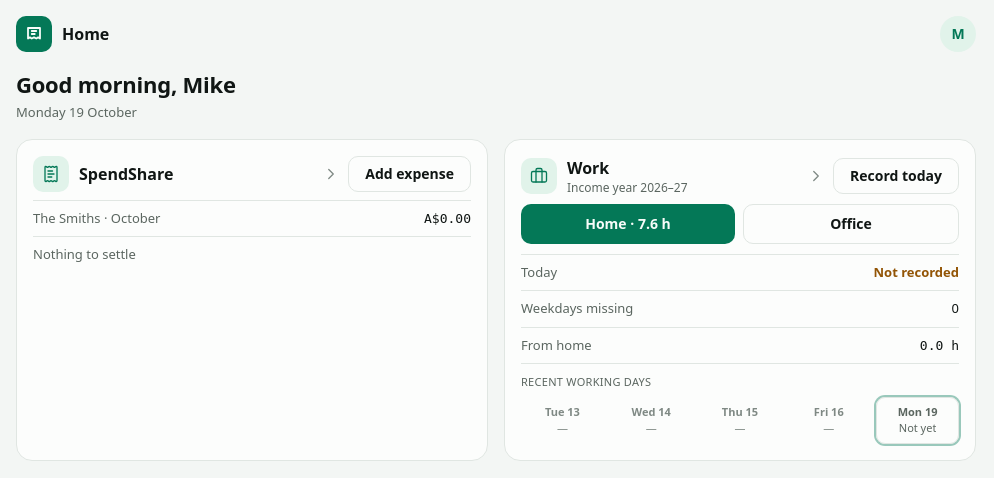
Test case: HomeScreen › has an account menu with the name, email, appearance and sign out, but no manage links
This screenshot has width=994, height=478.
Click the button named "Account menu".
click(958, 34)  # box [940,16,976,52]
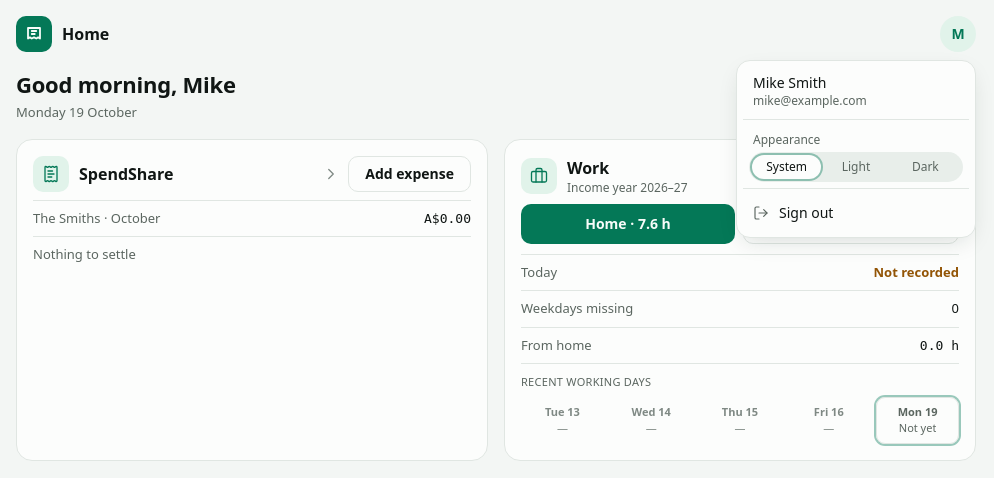
Now the menu shows "Mike Smith", box [753,73,826,92]
Now the menu shows "mike@example.com", box [753,92,867,109]
Now the menu item "Sign out" is shown, box [743,195,969,231]
